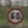limite 60: (5, 6, 24, 24)
